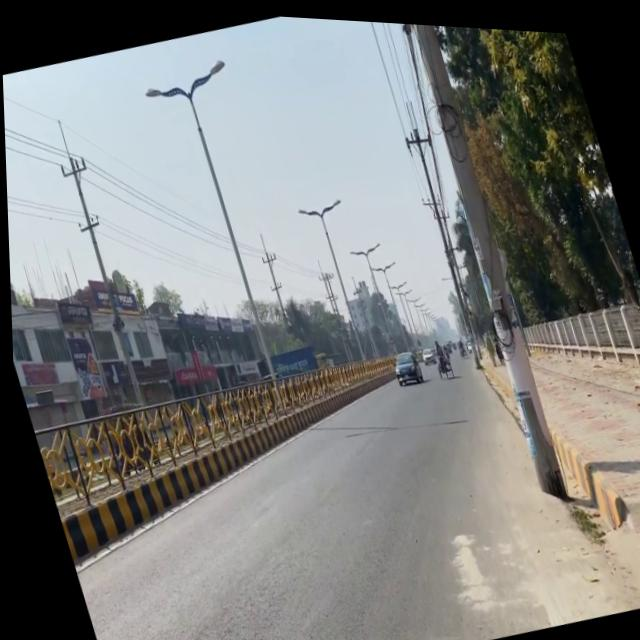Broken-road: (380, 338, 436, 401)
Construction-barrier: (474, 348, 524, 434)
Fallen-tree: (430, 345, 452, 375), (454, 338, 465, 353)
Light-pole: (391, 18, 573, 497)
Pole: (27, 338, 360, 591)
Pothole: (471, 298, 640, 549)
